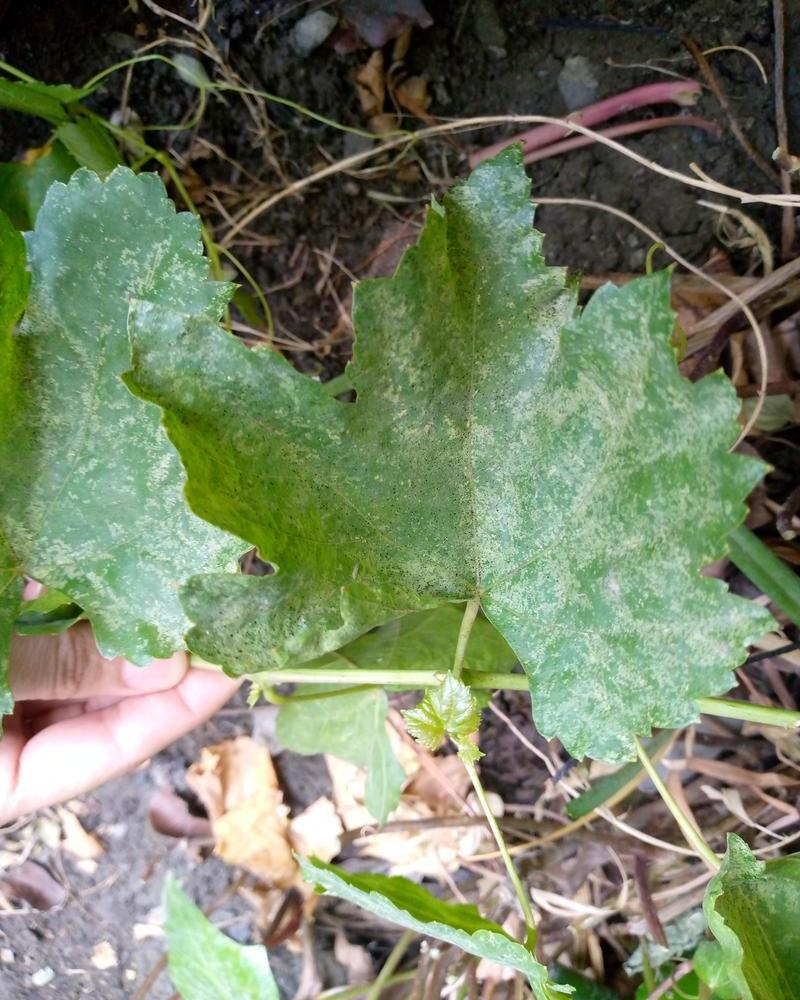Powdery-Mildew: (493, 330, 716, 473)
